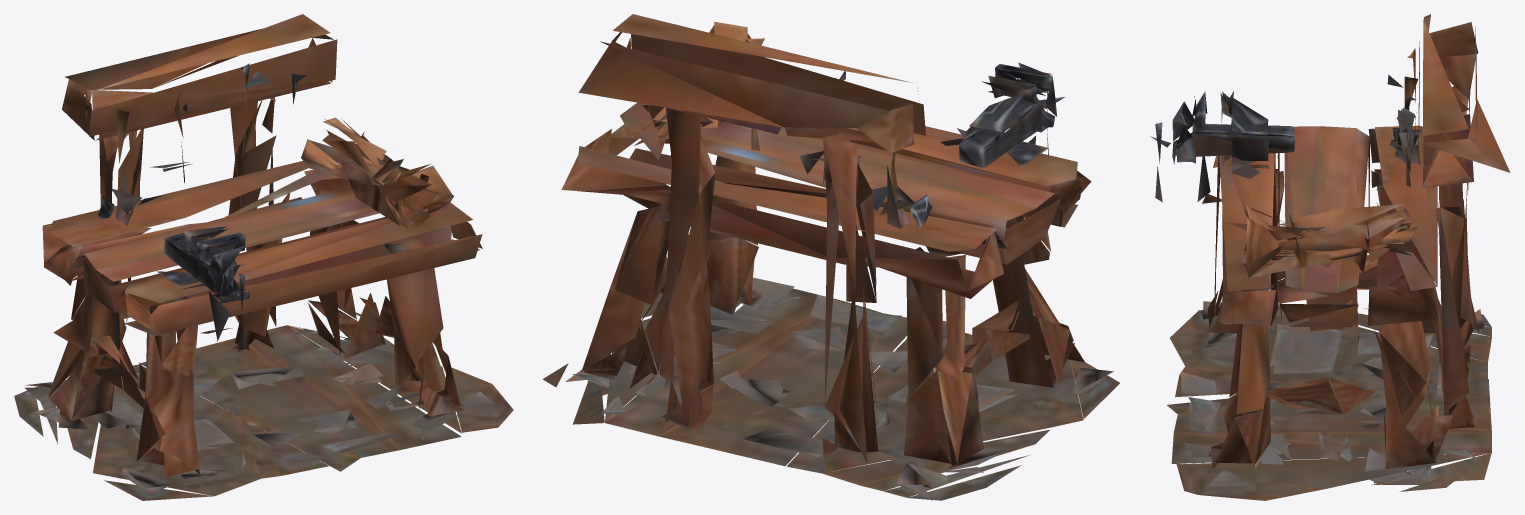
Rendered from at-etabli-semis.glb.
3 views of the same model, side by side, from view 1: azimuth 30°, elevation 25°; view 2: azimuth 150°, elevation 25°; view 3: azimuth 270°, elevation 25° (orthographic). The views are drawn at different scales.
Visible parts, largest first — view 1: at-etabli-semis; view 2: at-etabli-semis; view 3: at-etabli-semis.
Boxes of the visible parts, x1,y1,x2,y2 form: at-etabli-semis: (14, 14, 513, 500); at-etabli-semis: (542, 14, 1119, 500); at-etabli-semis: (1150, 14, 1510, 500).
Size of the model in its own units: 0.9634 by 0.7923 by 0.7514.
1 material, 1 textured.
